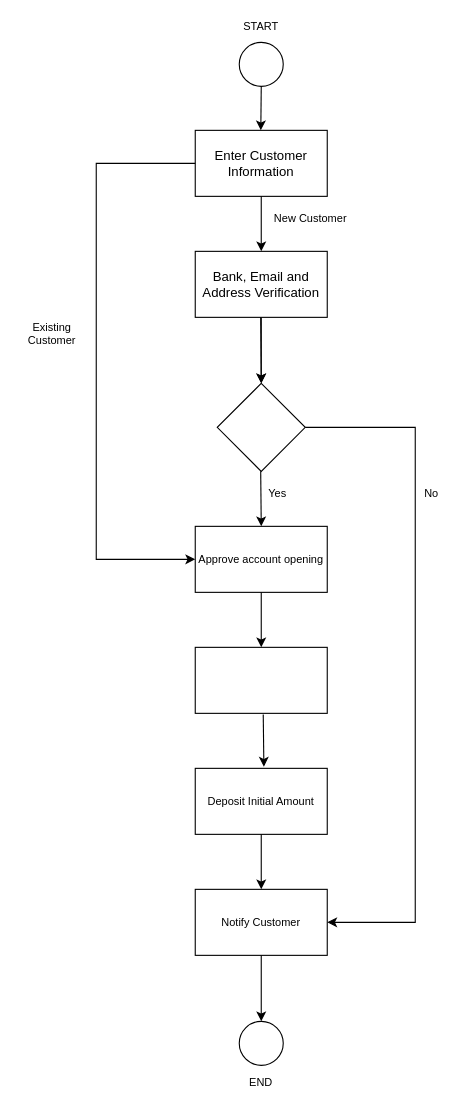
Image size: 466x1107. Some labels were removed from this diagram. The shapes that lost their labels are listed below. From the top down, each one's centre as x and y in pixels, then its label:
(x=260, y=426): Verification Satisfactory?
(x=260, y=679): Apply Account Policy Check
